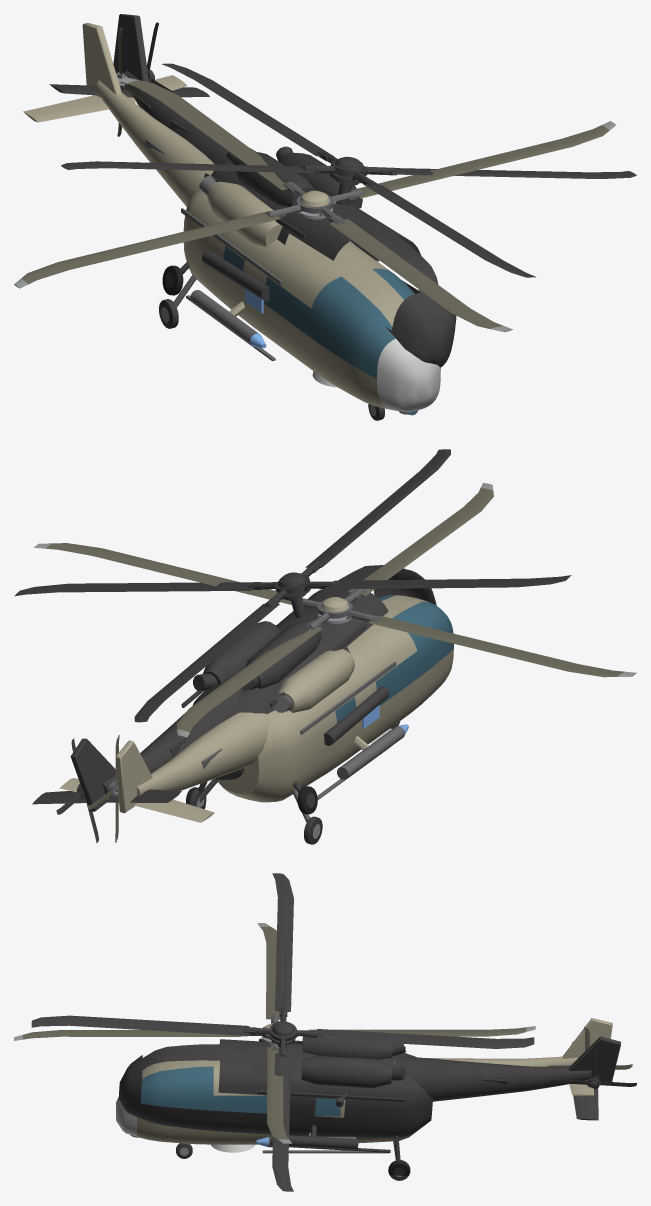
Rendered from navalHelicopter__wildcat_hma2.glb.
The picture shows the model from 3 angles, top to bottom: view 1: azimuth 30°, elevation 25°; view 2: azimuth 150°, elevation 25°; view 3: azimuth 270°, elevation 25°; orthographic projection. The views are drawn at different scales.
Parts seen in each view (by area): view 1: Fuselage_Mesh, Wreck, Rotor_Main_Mesh, Engines_Mesh, Naval_Mission_Kit_Mesh, Landing_Gear_Mesh; view 2: Wreck, Fuselage_Mesh, Rotor_Main_Mesh, Engines_Mesh, Naval_Mission_Kit_Mesh, Landing_Gear_Mesh; view 3: Wreck, Fuselage_Mesh, Rotor_Main_Mesh.
Boxes of the visible parts, x1,y1,x2,y2 form: Fuselage_Mesh: (23,22,440,415); Wreck: (49,14,636,367); Rotor_Main_Mesh: (14,77,616,332); Engines_Mesh: (199,175,289,246); Naval_Mission_Kit_Mesh: (190,290,266,348); Landing_Gear_Mesh: (159,274,384,420); Wreck: (14,449,571,842); Fuselage_Mesh: (59,595,453,822); Rotor_Main_Mesh: (34,483,636,737); Engines_Mesh: (273,649,354,712); Naval_Mission_Kit_Mesh: (337,724,408,779); Landing_Gear_Mesh: (188,721,400,844); Wreck: (31,873,636,1191); Fuselage_Mesh: (116,1018,612,1153); Rotor_Main_Mesh: (14,923,535,1143).
Size of what is drawn, in the model's own units: 13.21 by 5.3 by 15.29.
